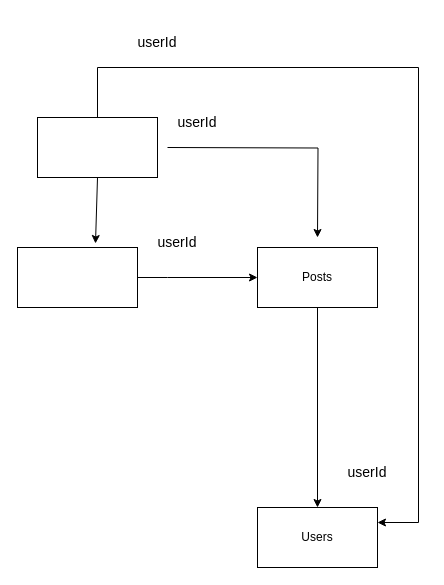
Image size: 444x585. Some labels were removed from this diagram. The box of each missing label's shape, as (x1, y1, x2, y2) in pixels:
Comments: (16, 246, 138, 308)
Reactions: (36, 116, 158, 178)
